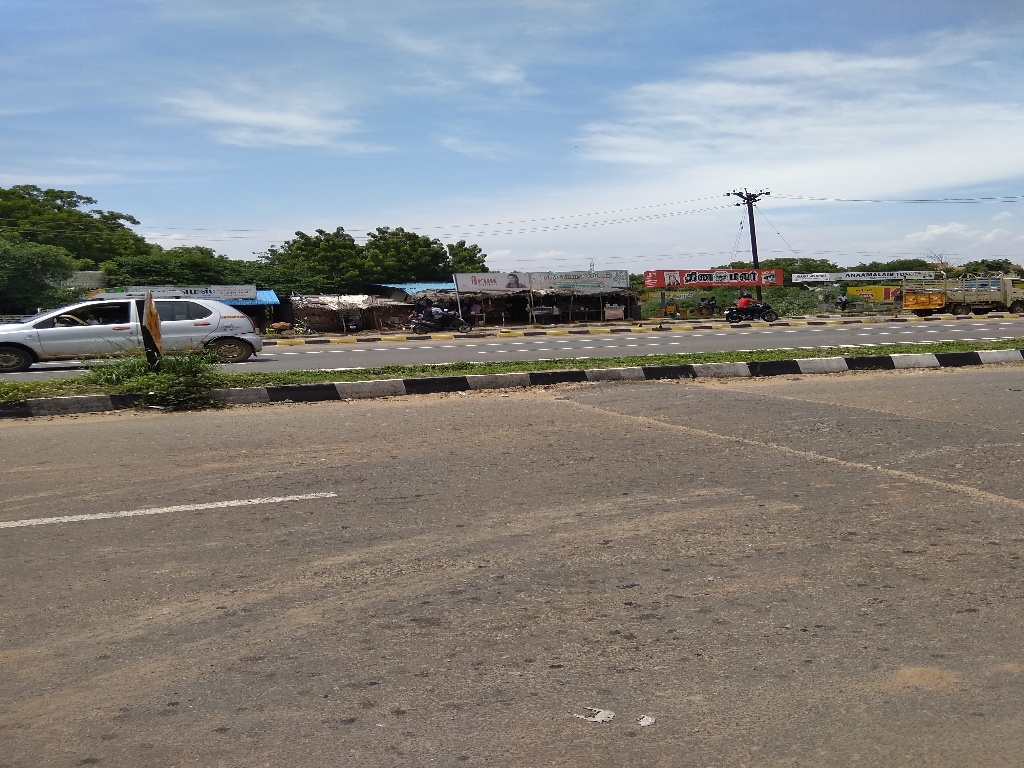biker: (401, 283, 481, 337), (721, 282, 781, 324)
helmet: (430, 298, 447, 312), (738, 286, 752, 301)
